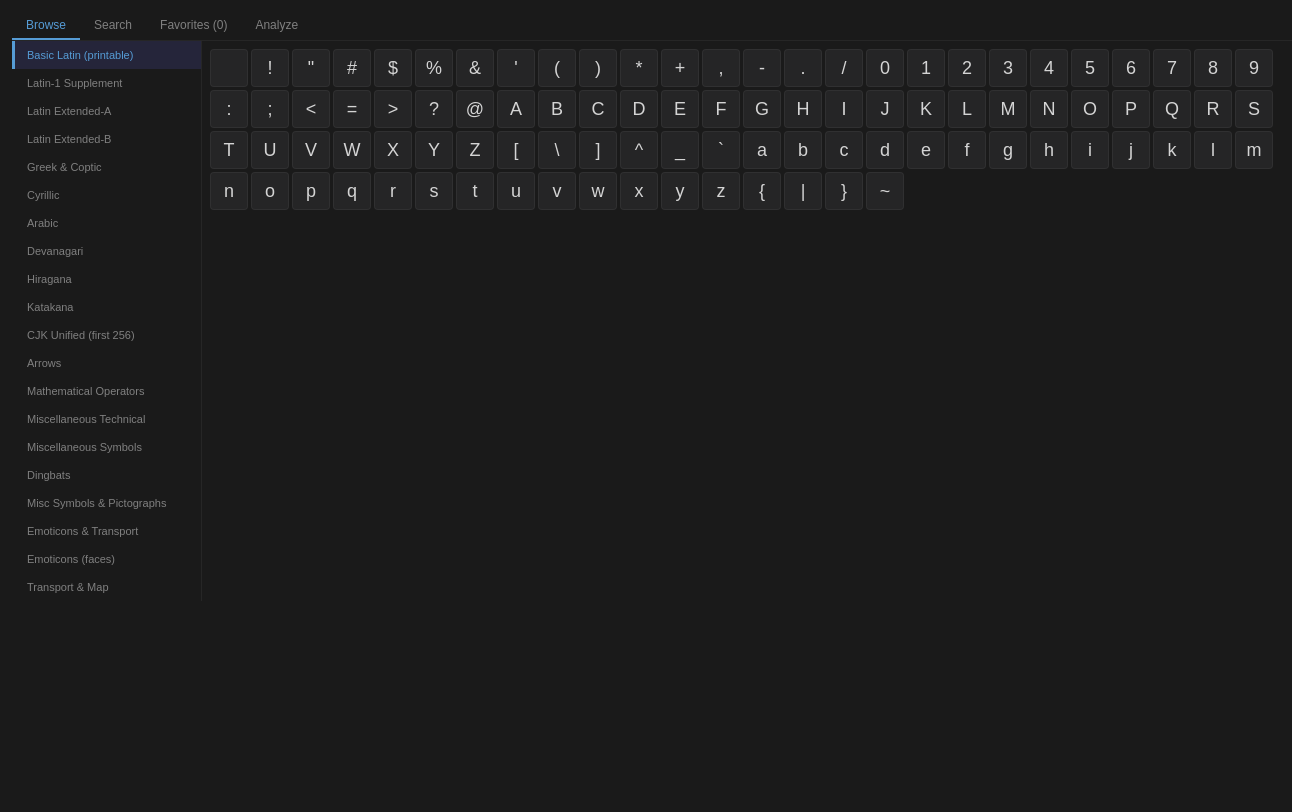
Scenario: UnicodePanel — search and favorites › Given a surrogate code point, then it rejects the non-scalar value
Click the button "Search".
click(113, 26)  # box [80, 12, 146, 40]
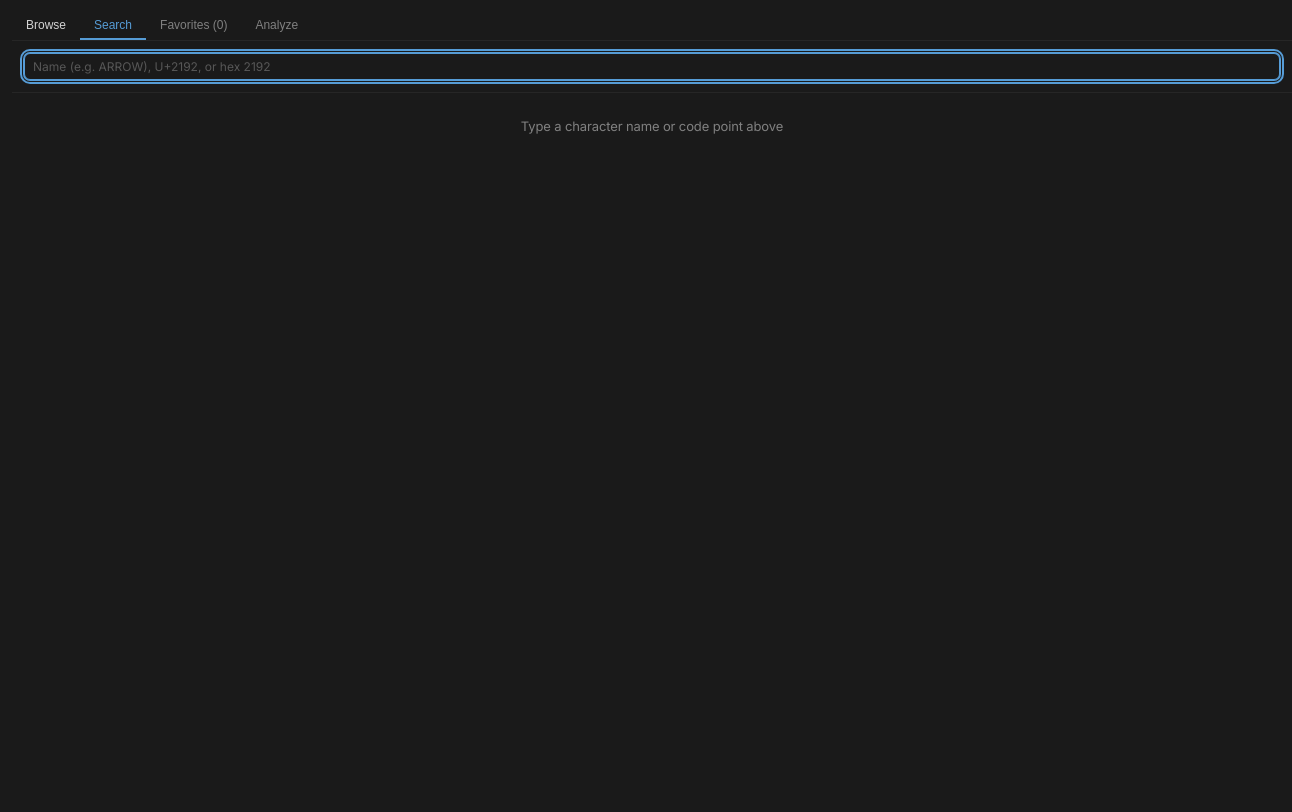
Type "U+D800" into the field with placeholder "Name (e.g. ARROW), U+2192, or hex 2192".
click(652, 66); type("U+D800")  # box [24, 53, 1280, 80]
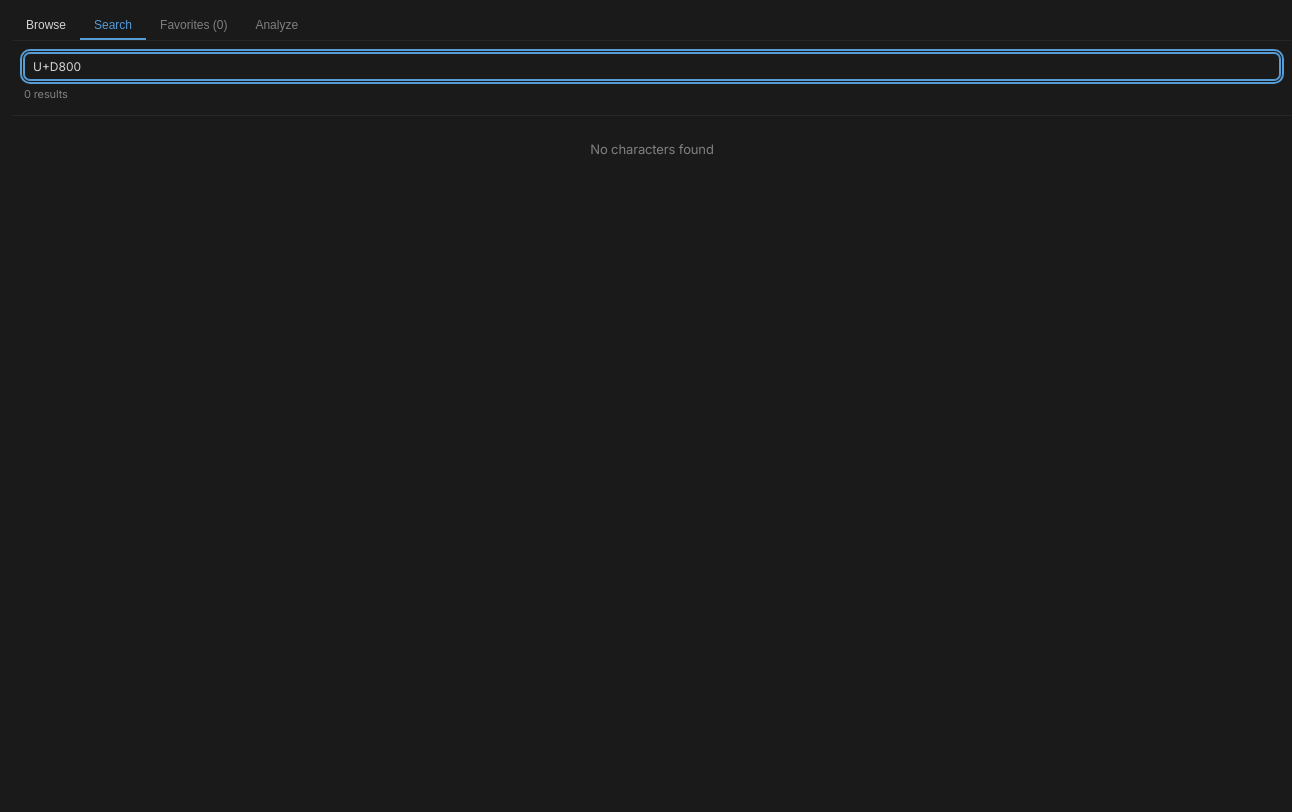
Expected: the text "0 results" is shown, [24, 87, 68, 101]
Expected: the text "No characters found" is shown, [590, 140, 714, 156]
